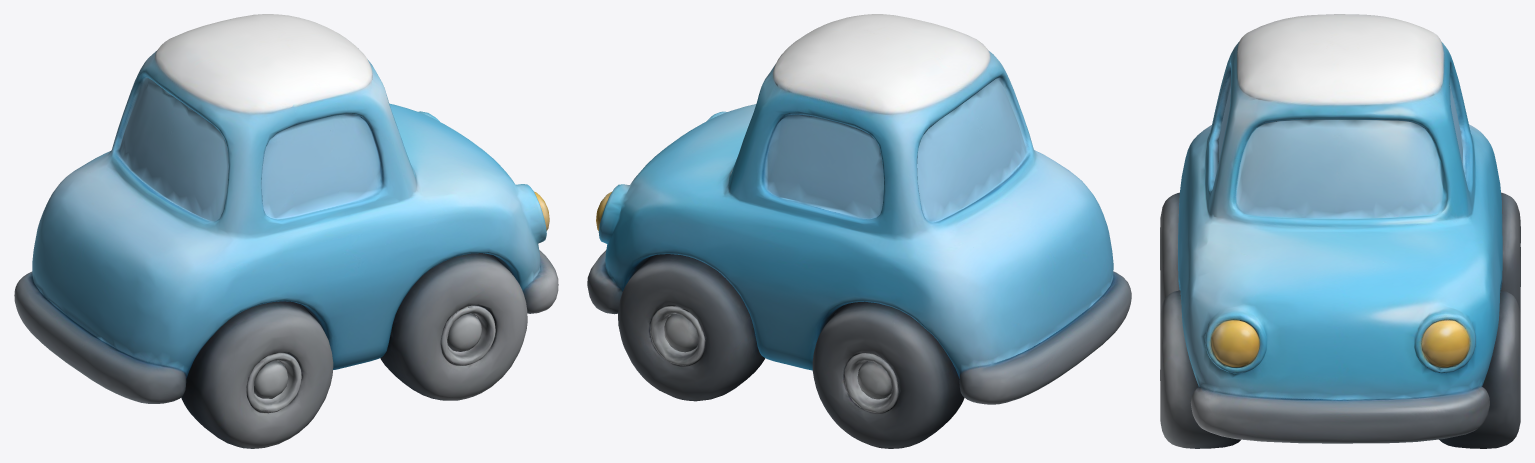
The model's file is toy-car.glb.
3 renders of one model, left to right at view 1: azimuth 30°, elevation 25°; view 2: azimuth 150°, elevation 25°; view 3: azimuth 270°, elevation 25°, orthographic. The views are drawn at different scales.
Visible parts, largest first — view 1: tripo_node_f8ec732d-dd35-48d6-9465-424b3408007c; view 2: tripo_node_f8ec732d-dd35-48d6-9465-424b3408007c; view 3: tripo_node_f8ec732d-dd35-48d6-9465-424b3408007c.
Part boxes in pixels (x1,y1,x2,y2): tripo_node_f8ec732d-dd35-48d6-9465-424b3408007c: [14, 14, 558, 448]; tripo_node_f8ec732d-dd35-48d6-9465-424b3408007c: [587, 14, 1131, 448]; tripo_node_f8ec732d-dd35-48d6-9465-424b3408007c: [1160, 14, 1520, 448].
Bounding box in the file's own units: 0.9792 × 0.6949 × 0.6604.
Materials: 1 (1 with a texture image).
